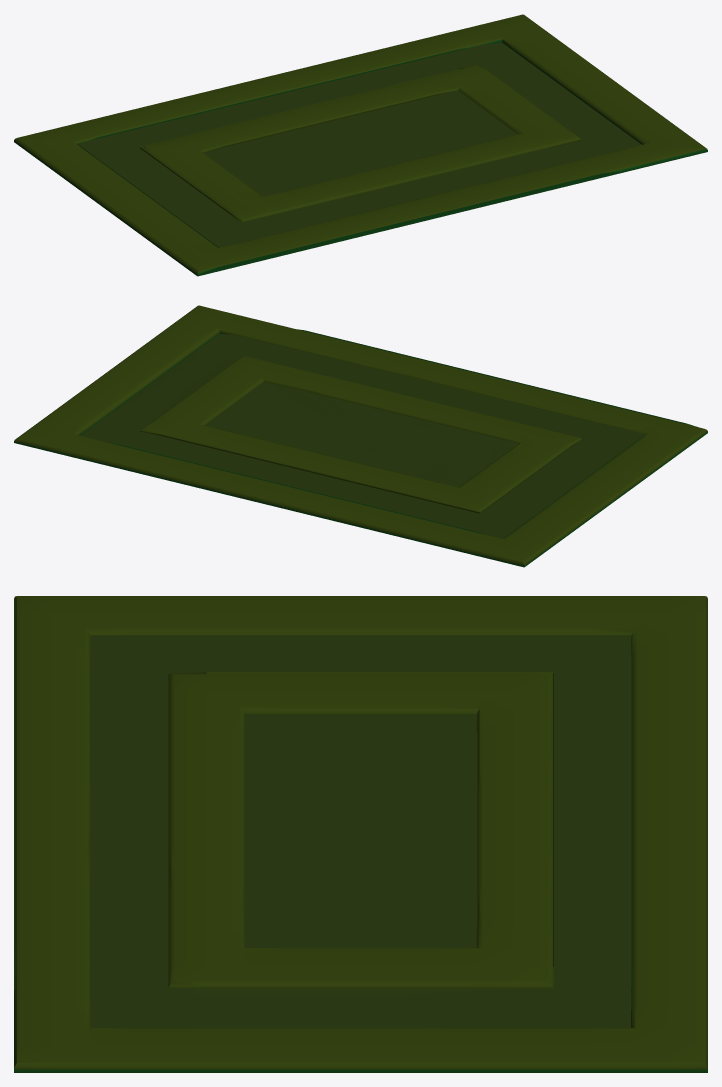
Rendered from tapete.fbx.
3 renders of one model, top to bottom at view 1: azimuth 30°, elevation 25°; view 2: azimuth 150°, elevation 25°; view 3: azimuth 270°, elevation 25°, orthographic. The views are drawn at different scales.
Parts seen in each view (by area): view 1: Plane; view 2: Plane; view 3: Plane.
Boxes of the visible parts, x1,y1,x2,y2 form: Plane: (14,14,707,276); Plane: (14,305,707,567); Plane: (14,596,707,1072).
Size of the model in its own units: 321 by 3.16 by 200.
